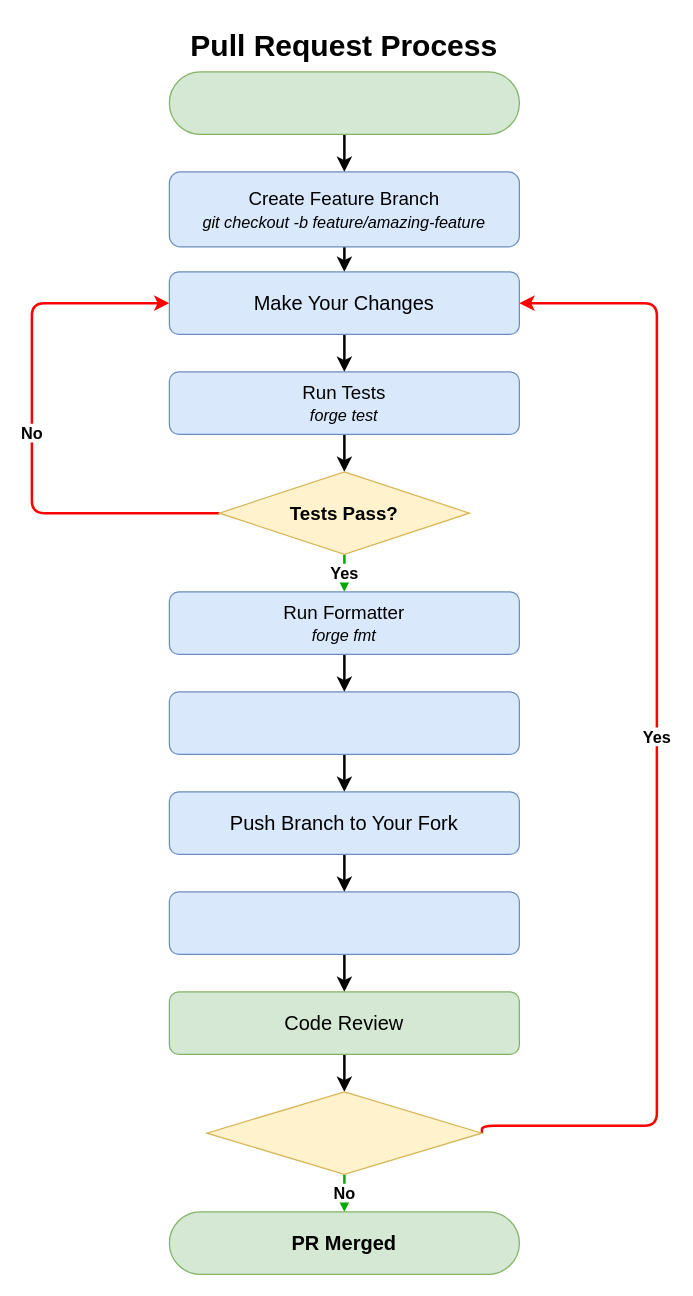
Image size: 693x1296. Some labels were removed from this diagram. The centre of each missing label's shape, as x and y in pixels:
Changes Requested?: [344,1132]
Commit with Clear Messages: [343,722]
Create a Pull Request: [343,922]
Fork the Repository: [343,102]
